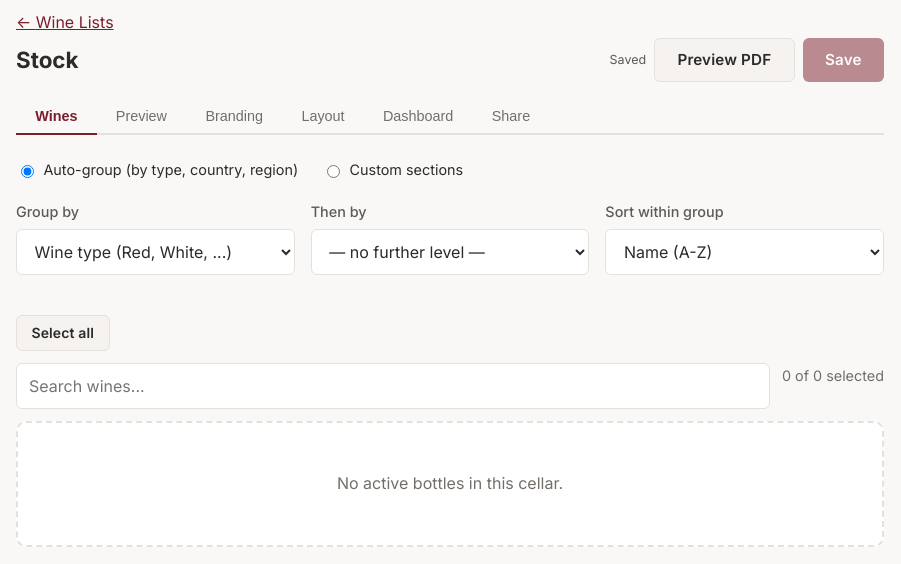
Scenario: WineListEditor save failures › a server answer without a reason is still not a connection problem
The width and height of the screenshot is (901, 564).
Replace the text in the field showing "Stock" with "Stock 2": {"x": 305, "y": 60} [16,42,594,78]
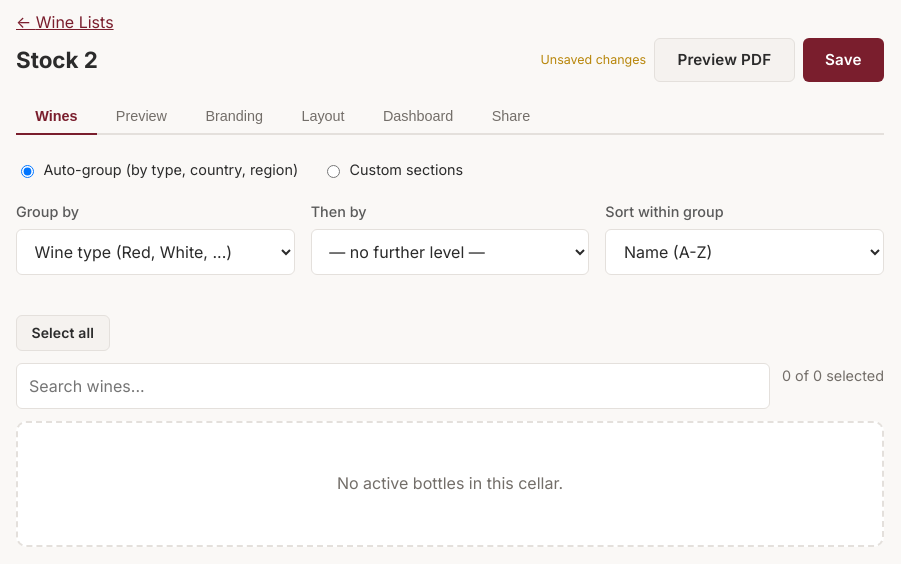
Click the button "Save": {"x": 843, "y": 60} [803,38,884,82]
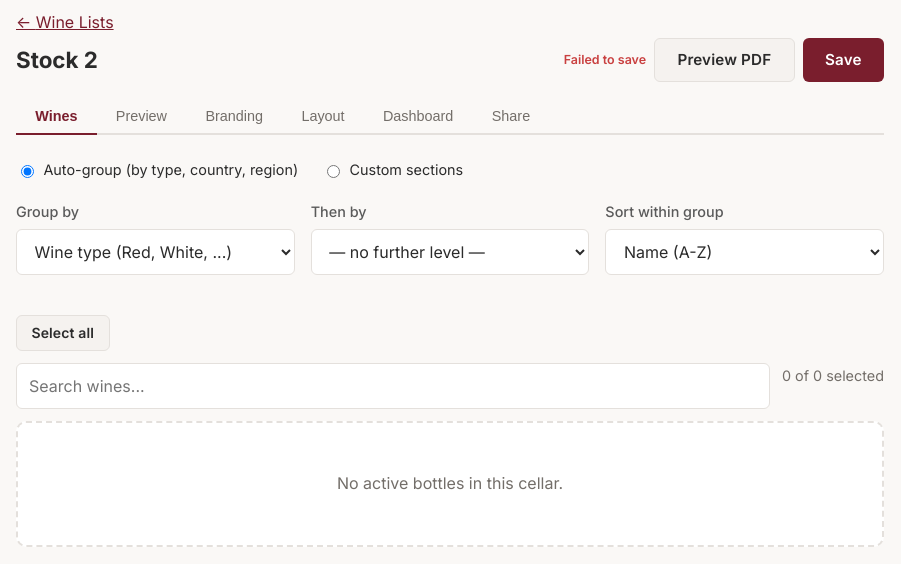
Expected: the text "Failed to save" is shown, [564,51,646,69]
